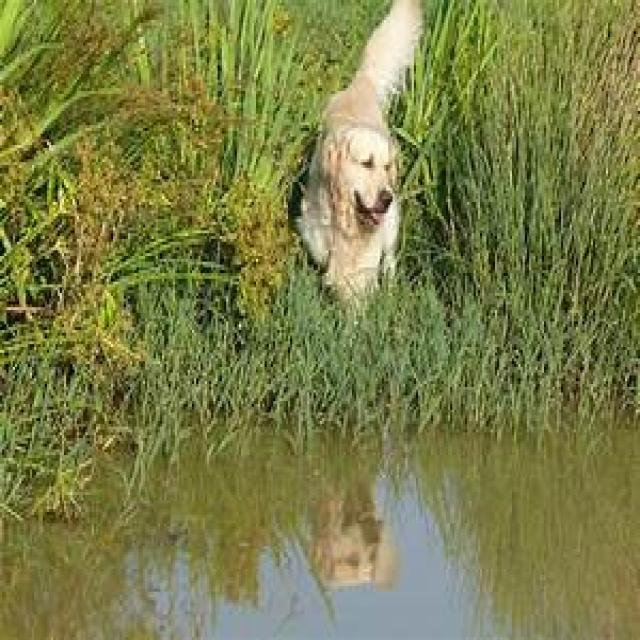animal: (294, 0, 424, 316)
